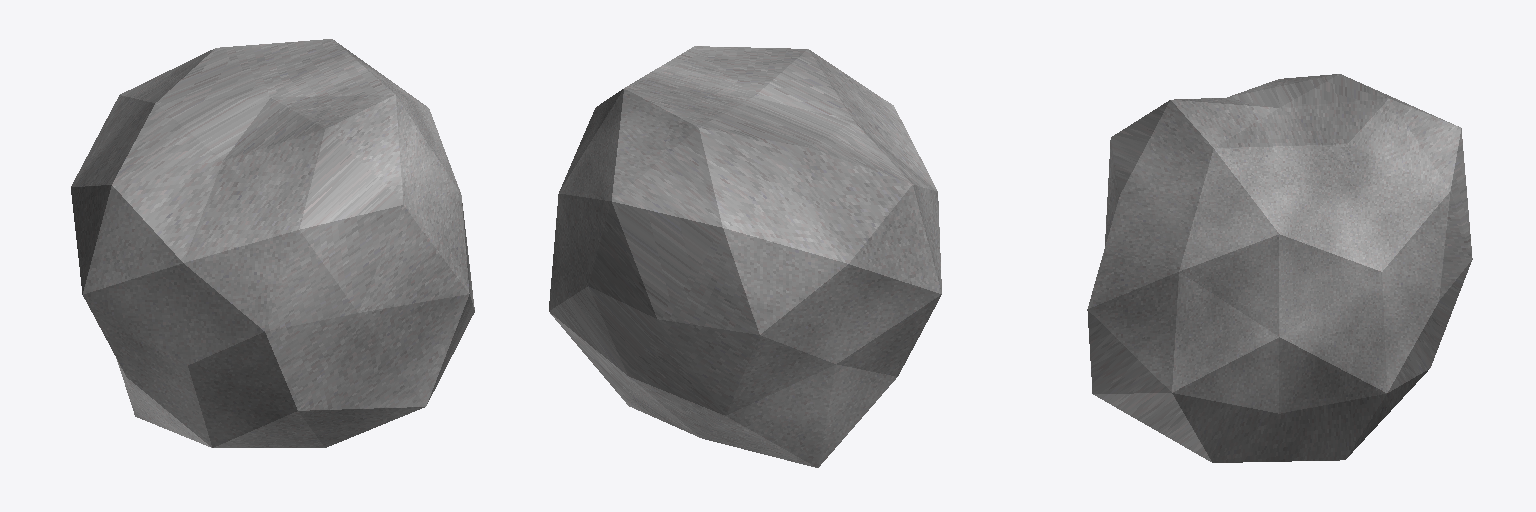
3 views of the same model, side by side, from view 1: azimuth 30°, elevation 25°; view 2: azimuth 150°, elevation 25°; view 3: azimuth 270°, elevation 25° (orthographic).
Parts seen in each view (by area): view 1: icosahedron1; view 2: icosahedron1; view 3: icosahedron1.
Boxes of the visible parts, x1=… form: icosahedron1: x1=71, y1=39, x2=474, y2=447; icosahedron1: x1=549, y1=46, x2=941, y2=467; icosahedron1: x1=1087, y1=74, x2=1472, y2=462.
Bounding box in the file's own units: 4.09 × 3.72 × 3.92.
Materials: 1 (1 with a texture image).